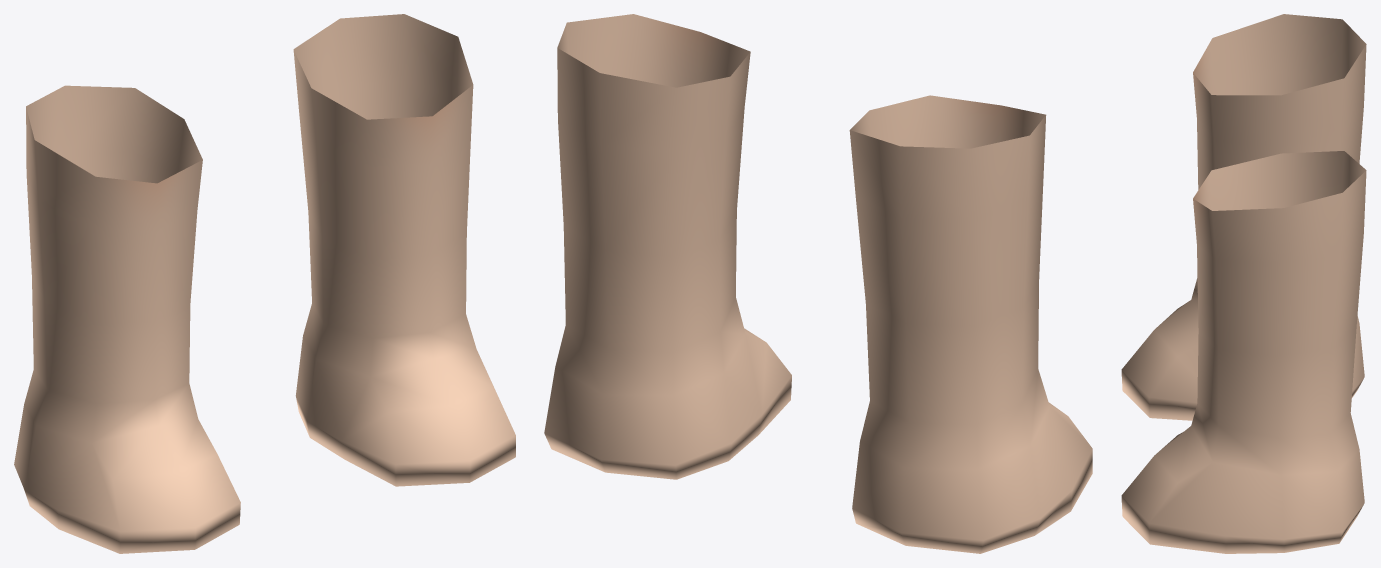
File: Body_LegA_1.fbx
The picture shows the model from 3 angles, left to right: view 1: azimuth 30°, elevation 25°; view 2: azimuth 150°, elevation 25°; view 3: azimuth 270°, elevation 25°; orthographic projection. The views are drawn at different scales.
Parts seen in each view (by area): view 1: Body_LegA_1; view 2: Body_LegA_1; view 3: Body_LegA_1.
Boxes of the visible parts, left/top/right/bottom form: Body_LegA_1: left=14, top=14, right=515, bottom=553; Body_LegA_1: left=544, top=14, right=1092, bottom=553; Body_LegA_1: left=1121, top=14, right=1366, bottom=553.
Bounding box in the file's own units: 32.81 × 26.18 × 16.71.
